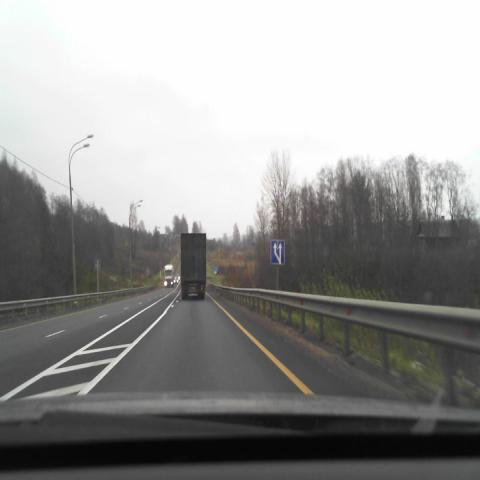5_15_3: (270, 239, 284, 265)
